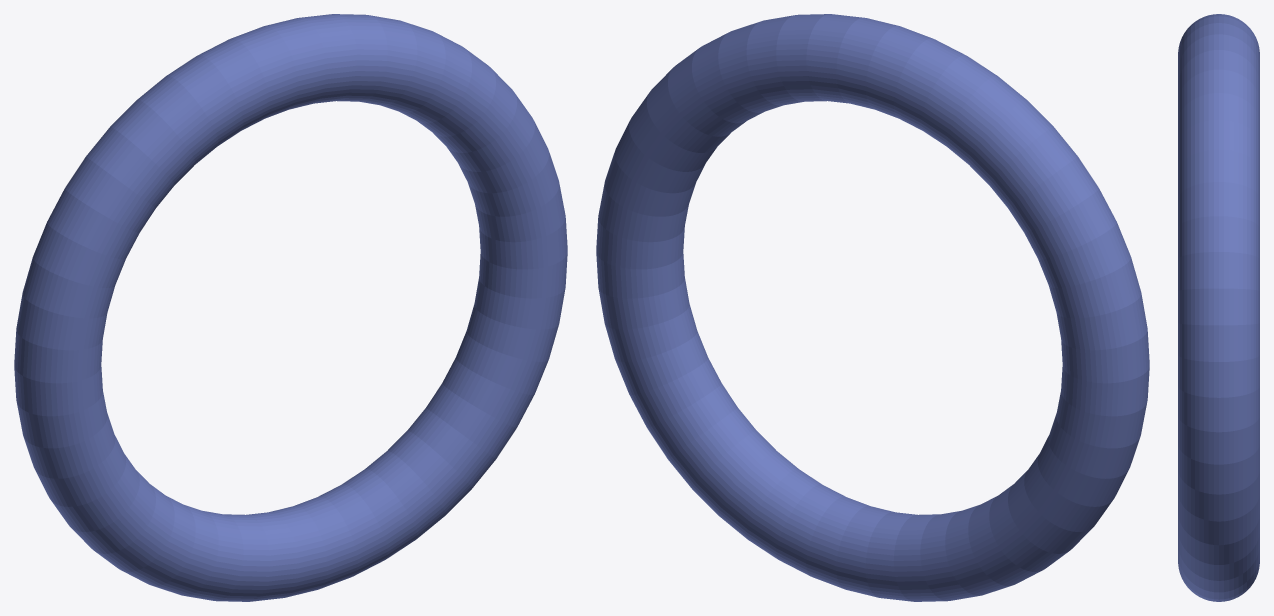
The picture shows the model from 3 angles, left to right: view 1: azimuth 30°, elevation 25°; view 2: azimuth 150°, elevation 25°; view 3: azimuth 270°, elevation 25°; orthographic projection. The views are drawn at different scales.
Parts seen in each view (by area): view 1: world; view 2: world; view 3: world.
Part boxes in pixels (x1,y1,x2,y2): world: (14,14,567,601); world: (596,14,1149,601); world: (1178,14,1259,601).
Size of the model in its own units: 16.27 by 16.23 by 2.26.
